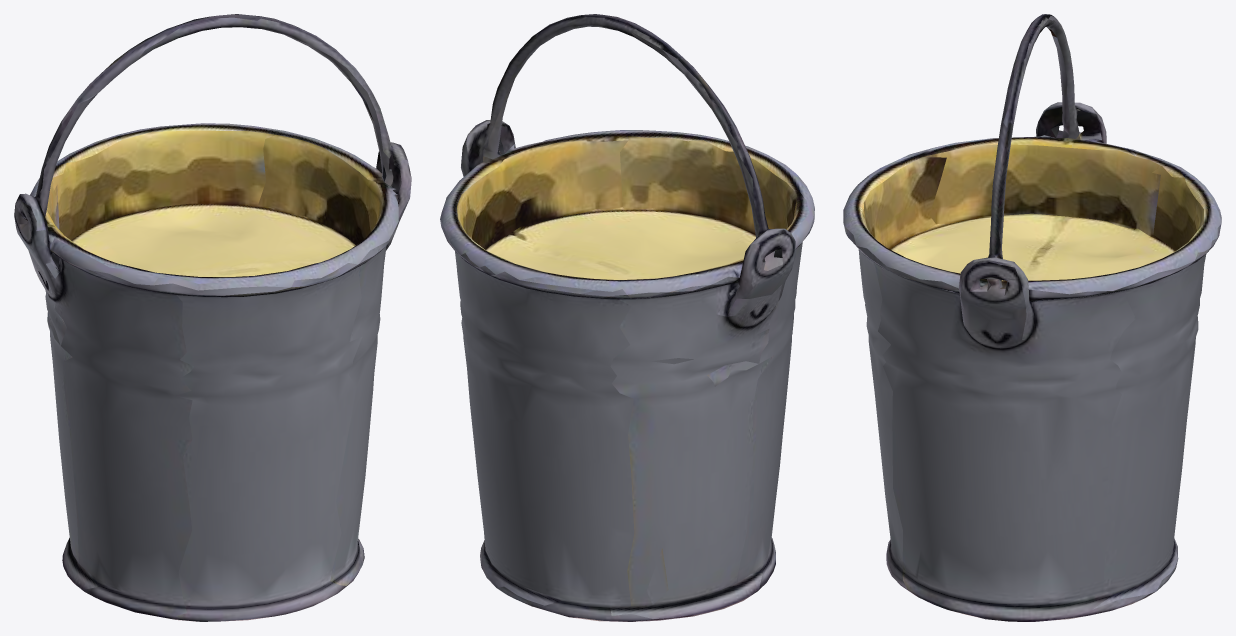
Rendered from milker.glb.
The picture shows the model from 3 angles, left to right: view 1: azimuth 30°, elevation 25°; view 2: azimuth 150°, elevation 25°; view 3: azimuth 270°, elevation 25°; orthographic projection. The views are drawn at different scales.
Visible parts, largest first — view 1: item_milker; view 2: item_milker; view 3: item_milker.
Boxes of the visible parts, x1=… form: item_milker: x1=14, y1=14, x2=411, y2=621; item_milker: x1=440, y1=14, x2=814, y2=621; item_milker: x1=843, y1=14, x2=1221, y2=621.
Size of the model in its own units: 0.6683 by 1 by 0.6442.
Materials: 1 (1 with a texture image).
